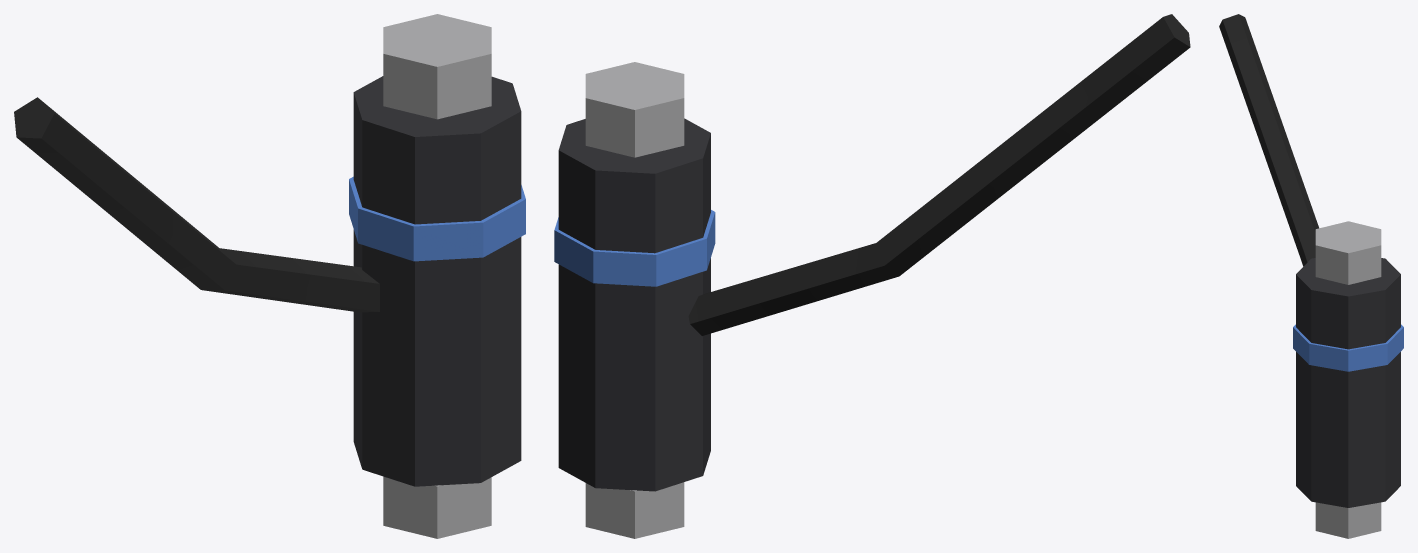
File: quickshifter_lod1.glb
3 views of the same model, side by side, from view 1: azimuth 30°, elevation 25°; view 2: azimuth 150°, elevation 25°; view 3: azimuth 270°, elevation 25° (orthographic). The views are drawn at different scales.
Visible parts, largest first — view 1: quickshifter_lod1; view 2: quickshifter_lod1; view 3: quickshifter_lod1.
Boxes of the visible parts, box(x1,y1,x2,y2) form: quickshifter_lod1: box(14, 14, 525, 538); quickshifter_lod1: box(554, 14, 1190, 538); quickshifter_lod1: box(1219, 14, 1403, 538).
Bounding box in the file's own units: 0.0713 × 0.0688 × 0.0317.
